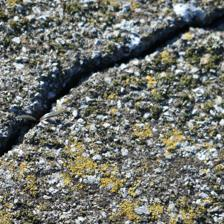Crack: (4, 7, 214, 142)
